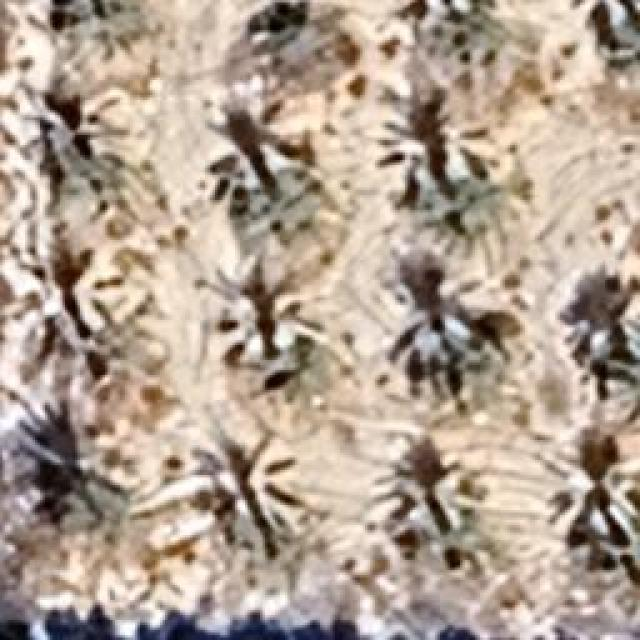PalmTree: (48, 38, 616, 548), (5, 82, 155, 212), (5, 244, 140, 374), (168, 427, 302, 555), (196, 246, 324, 372), (6, 398, 109, 540), (382, 275, 496, 403), (56, 469, 176, 590), (382, 108, 496, 232), (406, 143, 526, 254), (197, 94, 305, 208), (560, 258, 640, 402), (390, 1, 512, 91), (370, 437, 468, 545), (245, 0, 360, 92), (542, 432, 638, 542), (564, 0, 640, 73), (0, 612, 120, 640)
